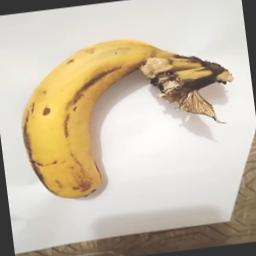Banana Unripe: (8, 22, 245, 212)
